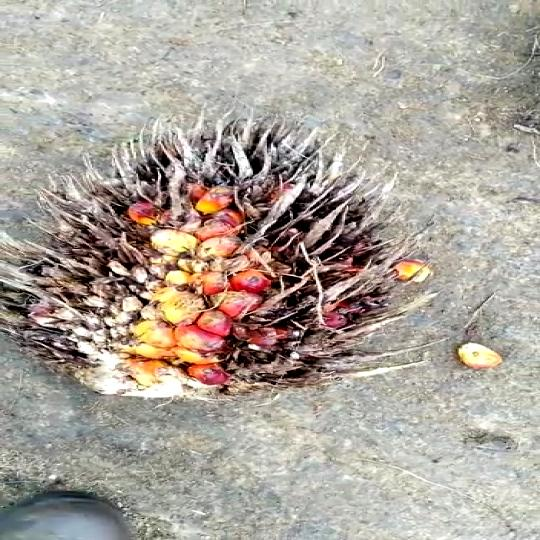terlalu masak: (0, 111, 424, 404)
